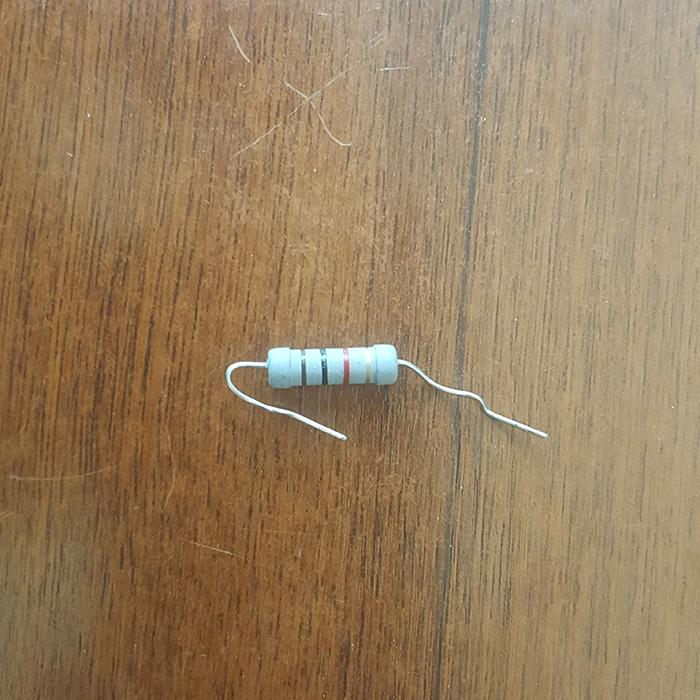resistor: (263, 342, 402, 388)
